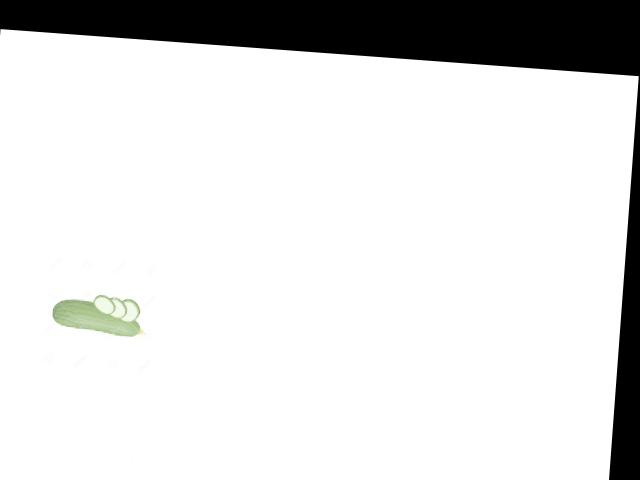cucumber: (49, 297, 146, 337)
